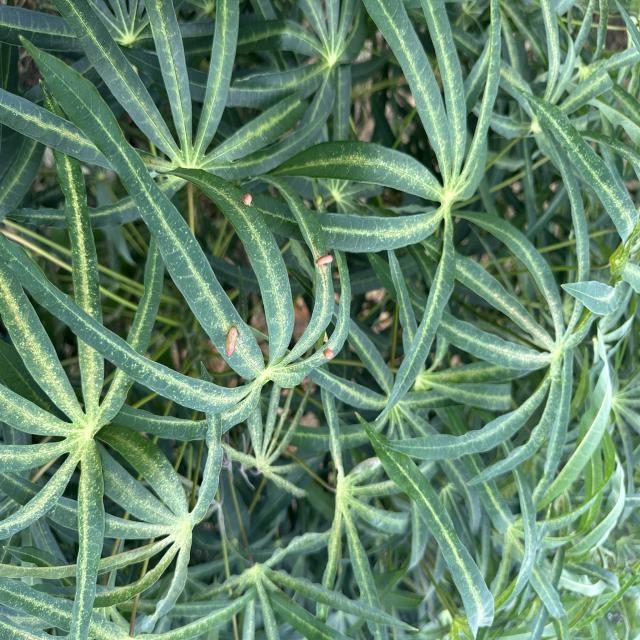Mosca: (201, 305, 267, 372), (302, 237, 349, 275), (233, 185, 264, 221), (315, 335, 347, 363), (396, 82, 419, 117)
